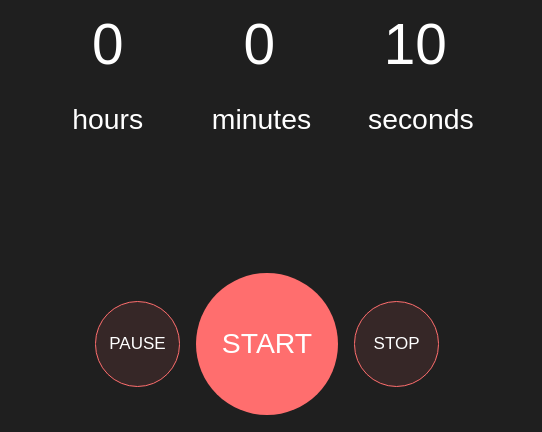
it: Timer Component › should not allow input changes when timer is running
The width and height of the screenshot is (542, 432).
What coordinates should you click on to do the following:
click the button "start"
I would click on:
 (267, 344)
Its box is [196, 273, 338, 415].
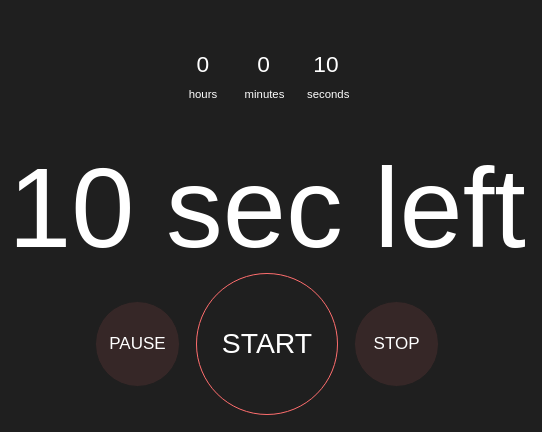
expect the number field labelled "hours" is disabled: met, box [184, 51, 222, 77]
